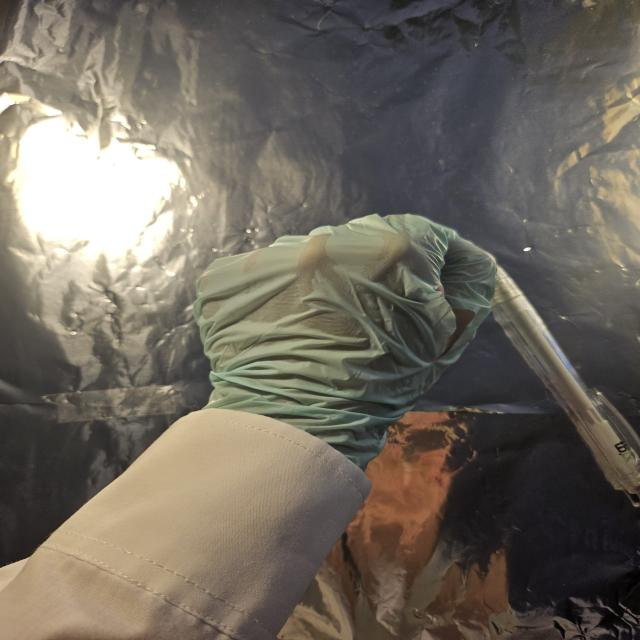gloves_damaged: (184, 211, 505, 479)
